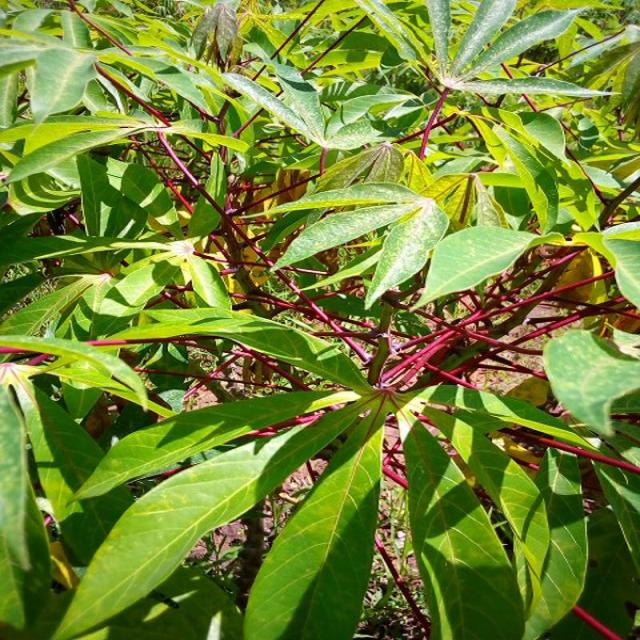cassava leaf: (1, 0, 638, 638), (242, 409, 384, 638), (398, 408, 526, 638), (542, 326, 638, 438)
